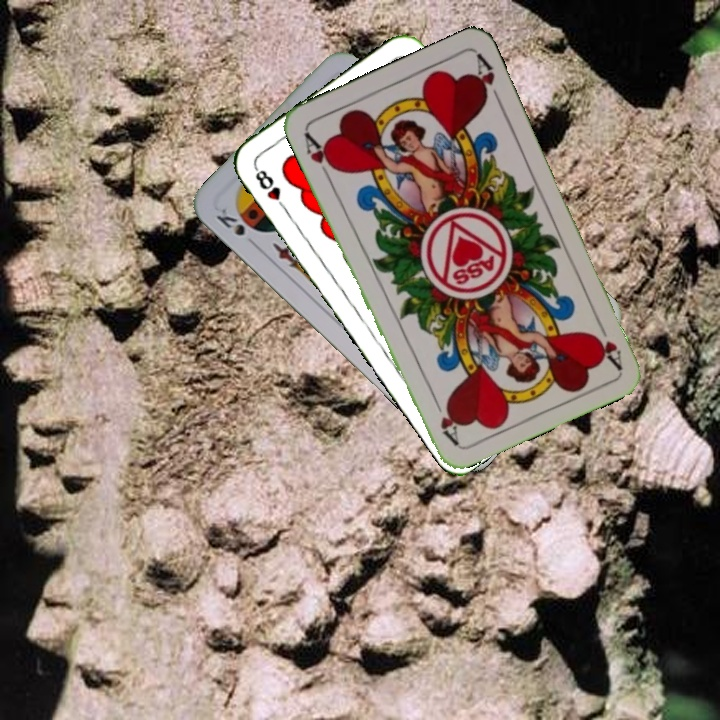H8: (250, 163, 290, 214)
HA: (300, 127, 340, 183), (587, 315, 625, 371)
SK: (211, 203, 248, 239)
